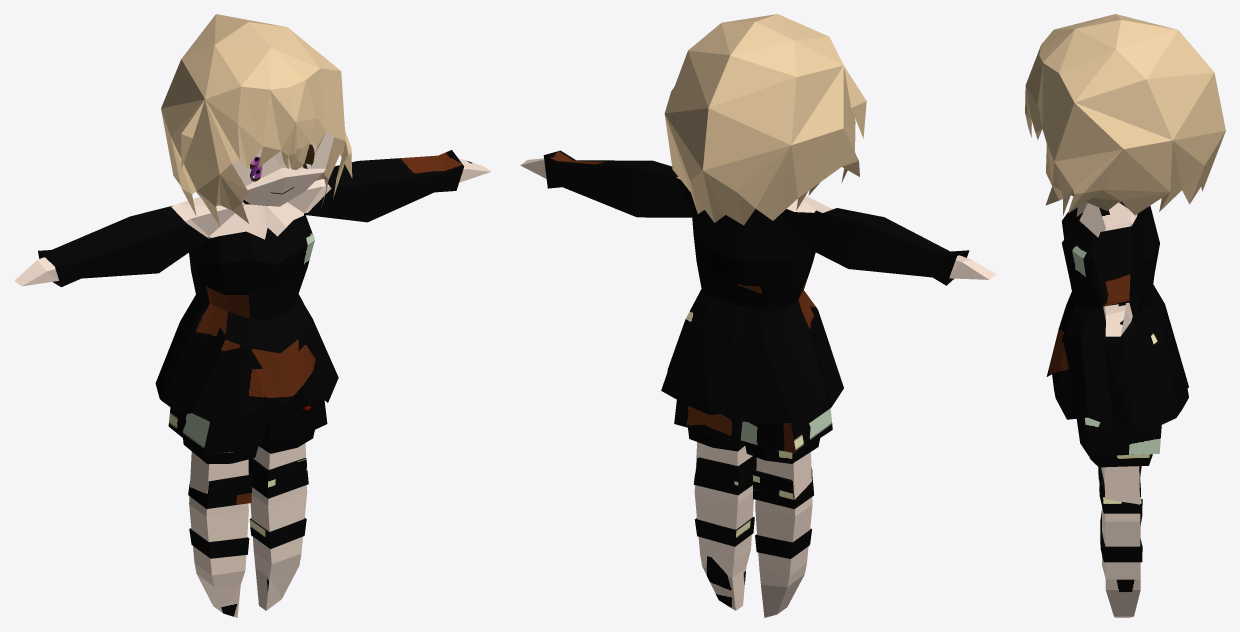
Rendered from Hatsune52.fbx.
3 renders of one model, left to right at view 1: azimuth 30°, elevation 25°; view 2: azimuth 150°, elevation 25°; view 3: azimuth 270°, elevation 25°, orthographic.
Visible parts, largest first — view 1: Cloth, Hair, Body, Pants, Uika.003; view 2: Cloth, Hair, Body, Uika.003, Pants; view 3: Hair, Cloth, Body, Pants, Uika.003.
Part boxes in pixels (box(x1,y1,x2,y2)): Cloth: box(38, 150, 464, 428); Hair: box(161, 14, 352, 226); Body: box(14, 132, 491, 617); Pants: box(168, 397, 327, 464); Uika.003: box(188, 458, 308, 558); Cloth: box(543, 150, 969, 423); Hair: box(664, 14, 866, 225); Body: box(520, 158, 996, 617); Uika.003: box(693, 456, 813, 558); Pants: box(674, 400, 832, 463); Hair: box(1025, 14, 1225, 215); Cloth: box(1046, 206, 1188, 427); Body: box(1076, 201, 1140, 617); Pants: box(1076, 417, 1161, 467); Uika.003: box(1098, 466, 1142, 562).
Bounding box in the file's own units: 216 × 259 × 79.91.
